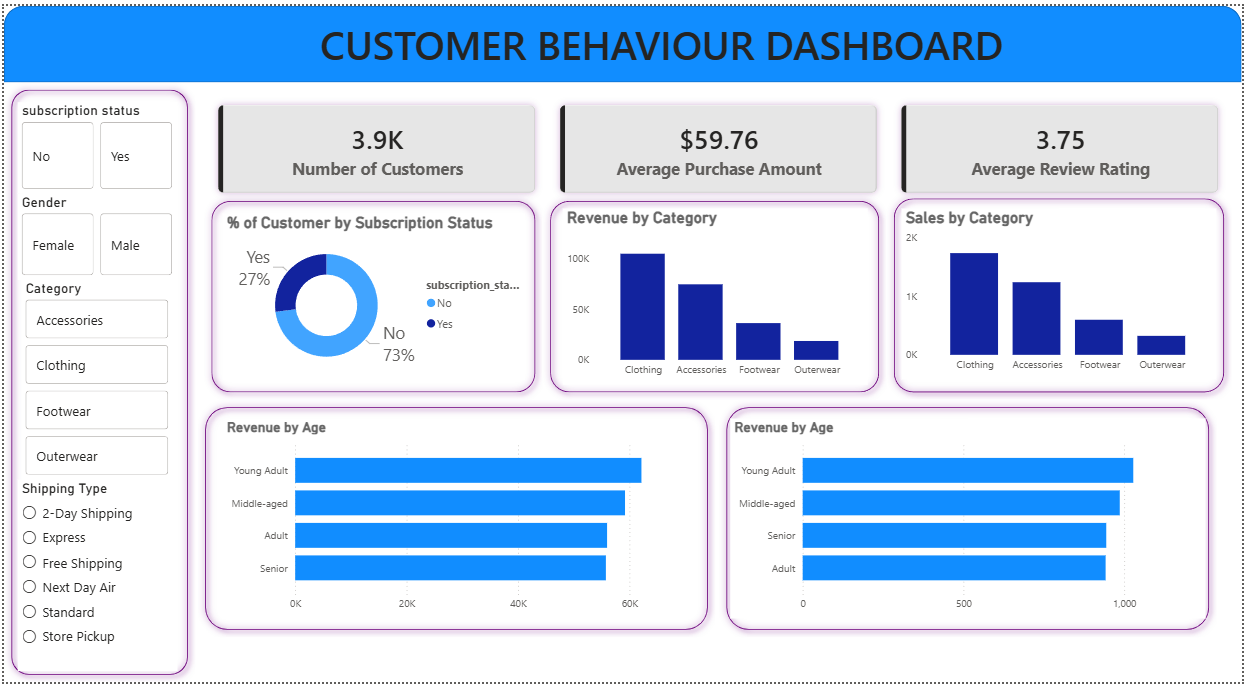

What the dashboard file says about the page in this screenshot:
{"tool":"powerbi","page":{"name":"Page 1","canvas":[1500,820],"ordinal":0},"visuals":[{"type":"cardVisual","fields":{"Data":["public customer.Number of Customers","public customer.Average Purchase Amount","public customer.Average Review Rating"]},"box":[231.8,92.4,1268.2,162.1],"z":0},{"type":"shape","box":[0,0,1500,92.4],"z":1000},{"type":"textbox","box":[203,9.1,1187.9,74.2],"z":2000},{"type":"shape","box":[242.4,227.3,410.6,250],"z":3000},{"type":"donutChart","title":"% of Customer by Subscription Status","fields":{"Category":["public customer.subscription_status"],"Y":["CountNonNull(public customer.customer_id)"]},"box":[265.2,251.5,366.7,201.5],"z":4000},{"type":"shape","box":[653,227.3,416.7,250],"z":5000},{"type":"shape","box":[1069.7,224.2,418.2,253],"z":6000},{"type":"clusteredColumnChart","title":"Revenue by Category","fields":{"Y":["Sum(public customer.purchase_amount)"],"Category":["public customer.category"]},"box":[677.3,245.5,369.7,213.6],"z":7000},{"type":"clusteredColumnChart","title":"Sales by Category","fields":{"Category":["public customer.category"],"Y":["CountNonNull(public customer.customer_id)"]},"box":[1087.9,245.5,381.8,207.6],"z":8000},{"type":"shape","box":[0,92.4,231.8,727.3],"z":9000},{"type":"advancedSlicerVisual","title":"subscription status","fields":{"Values":["public customer.subscription_status"]},"box":[16.7,116.7,193.9,110.6],"z":9001},{"type":"advancedSlicerVisual","title":"Gender","fields":{"Values":["public customer.gender"]},"box":[16.7,227.3,193.9,104.5],"z":9002},{"type":"advancedSlicerVisual","title":"Category","fields":{"Values":["public customer.category"]},"box":[21.2,331.8,183.3,242.4],"z":9003},{"type":"listSlicer","title":"Shipping Type","fields":{"Values":["public customer.shipping_type"]},"box":[16.7,574.2,193.9,231.8],"z":9004},{"type":"clusteredBarChart","title":"Revenue by Age","fields":{"Y":["Sum(public customer.purchase_amount)"],"Category":["public customer.age_group"]},"box":[265.2,500,575.8,242.4],"z":9005},{"type":"shape","box":[234.8,477.3,627.3,287.9],"z":9006},{"type":"shape","box":[866.7,477.3,603,287.9],"z":9007},{"type":"clusteredBarChart","title":"Revenue by Age","fields":{"Y":["CountNonNull(public customer.customer_id)"],"Category":["public customer.age_group"]},"box":[880.3,500,575.8,242.4],"z":9008}]}

Visuals, with their boxes in screenshot pixels (x1, y1, x2, y2), scaled from the page's 1500x820 canvas onto the 1250x685 screenshot:
cardVisual - public customer.Number of Customers x public customer.Average Purchase Amount: pyautogui.locateOnScreen(193, 77, 1249, 213)
shape: pyautogui.locateOnScreen(0, 0, 1249, 77)
textbox: pyautogui.locateOnScreen(169, 8, 1159, 70)
shape: pyautogui.locateOnScreen(202, 190, 544, 399)
"% of Customer by Subscription Status" donutChart: pyautogui.locateOnScreen(221, 210, 527, 378)
shape: pyautogui.locateOnScreen(544, 190, 891, 399)
shape: pyautogui.locateOnScreen(891, 187, 1240, 399)
"Revenue by Category" clusteredColumnChart: pyautogui.locateOnScreen(564, 205, 872, 384)
"Sales by Category" clusteredColumnChart: pyautogui.locateOnScreen(907, 205, 1225, 379)
shape: pyautogui.locateOnScreen(0, 77, 193, 684)
"subscription status" advancedSlicerVisual: pyautogui.locateOnScreen(14, 97, 176, 190)
"Gender" advancedSlicerVisual: pyautogui.locateOnScreen(14, 190, 176, 277)
"Category" advancedSlicerVisual: pyautogui.locateOnScreen(18, 277, 170, 480)
"Shipping Type" listSlicer: pyautogui.locateOnScreen(14, 480, 176, 673)
"Revenue by Age" clusteredBarChart: pyautogui.locateOnScreen(221, 418, 701, 620)
shape: pyautogui.locateOnScreen(196, 399, 718, 639)
shape: pyautogui.locateOnScreen(722, 399, 1225, 639)
"Revenue by Age" clusteredBarChart: pyautogui.locateOnScreen(734, 418, 1213, 620)
